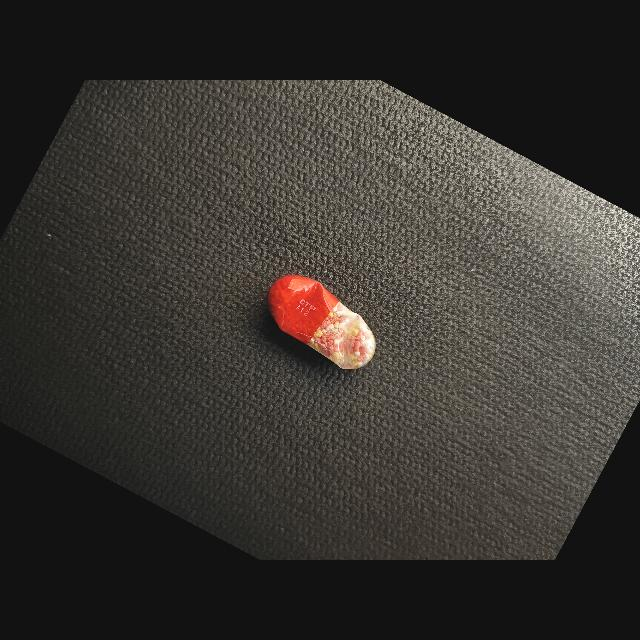Defective Capsule: (267, 275, 376, 369)
